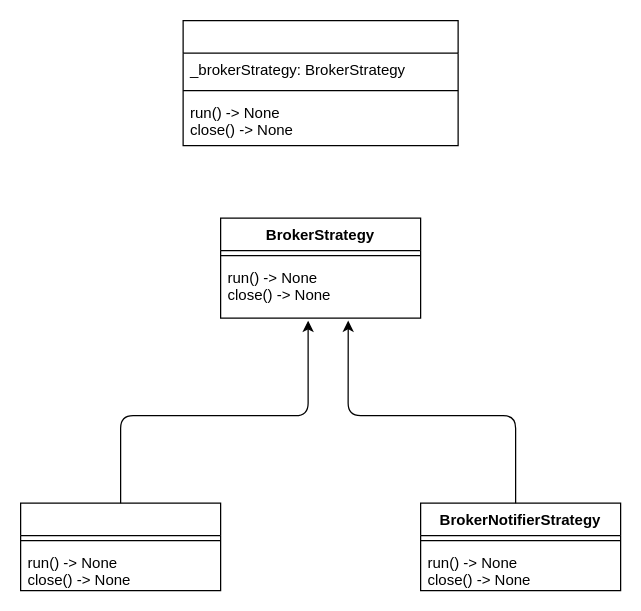
This 641x611 diagram has some shape labels left out. Here are the shapes that lost their labels. From the top down, the box of each, then its label:
(182, 19, 458, 146): BrokerClient
(19, 502, 221, 591): BrokerProxyStrategy
